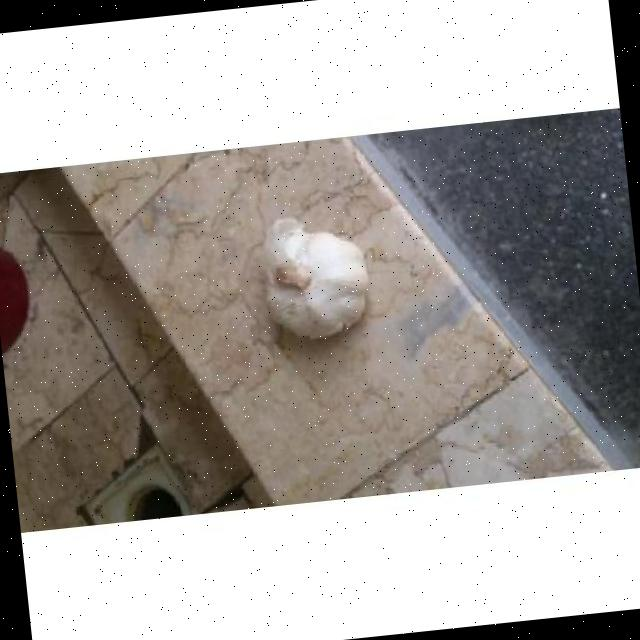garlic: (264, 216, 367, 336)
